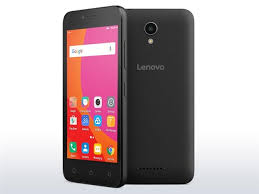lenovo: (59, 3, 196, 188), (121, 5, 194, 186), (61, 4, 125, 187)
